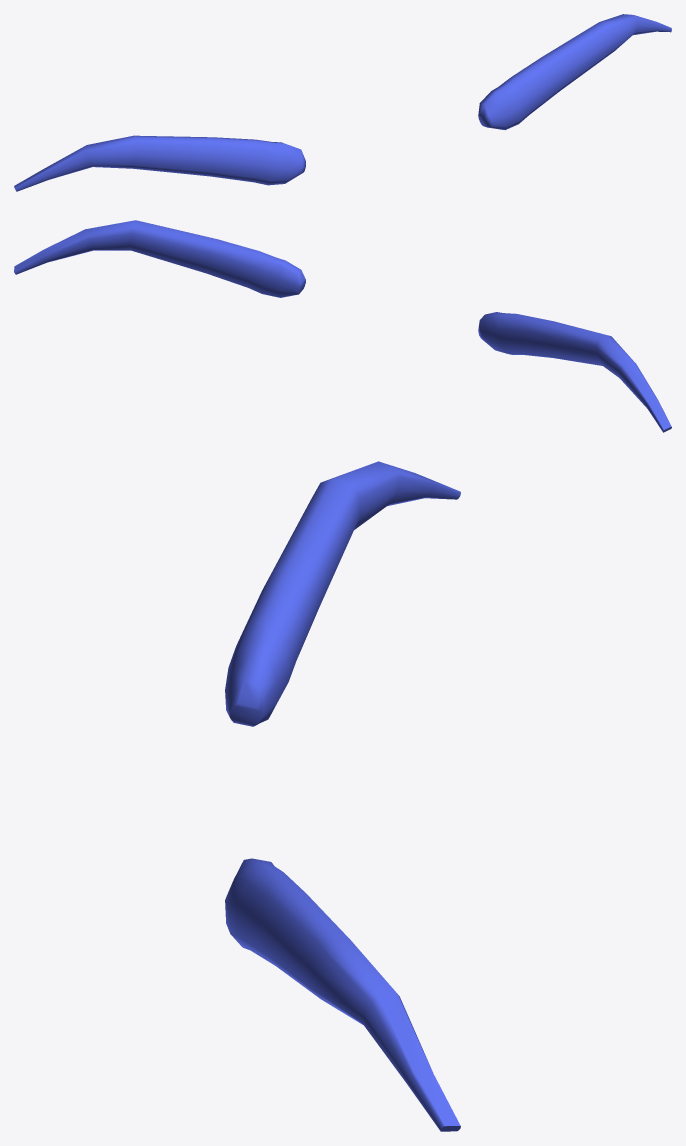
File: Eyebrows_14_03.fbx
3 views of the same model, one above another, from view 1: azimuth 30°, elevation 25°; view 2: azimuth 150°, elevation 25°; view 3: azimuth 270°, elevation 25° (orthographic). The views are drawn at different scales.
Visible parts, largest first — view 1: Eyebrows_14_03; view 2: Eyebrows_14_03; view 3: Eyebrows_14_03.
Boxes of the visible parts, left/top/right/bottom form: Eyebrows_14_03: left=14, top=14, right=671, bottom=191; Eyebrows_14_03: left=14, top=220, right=671, bottom=432; Eyebrows_14_03: left=225, top=461, right=460, bottom=1131.
Bounding box in the file's own units: 19.11 × 1.7 × 2.97.
